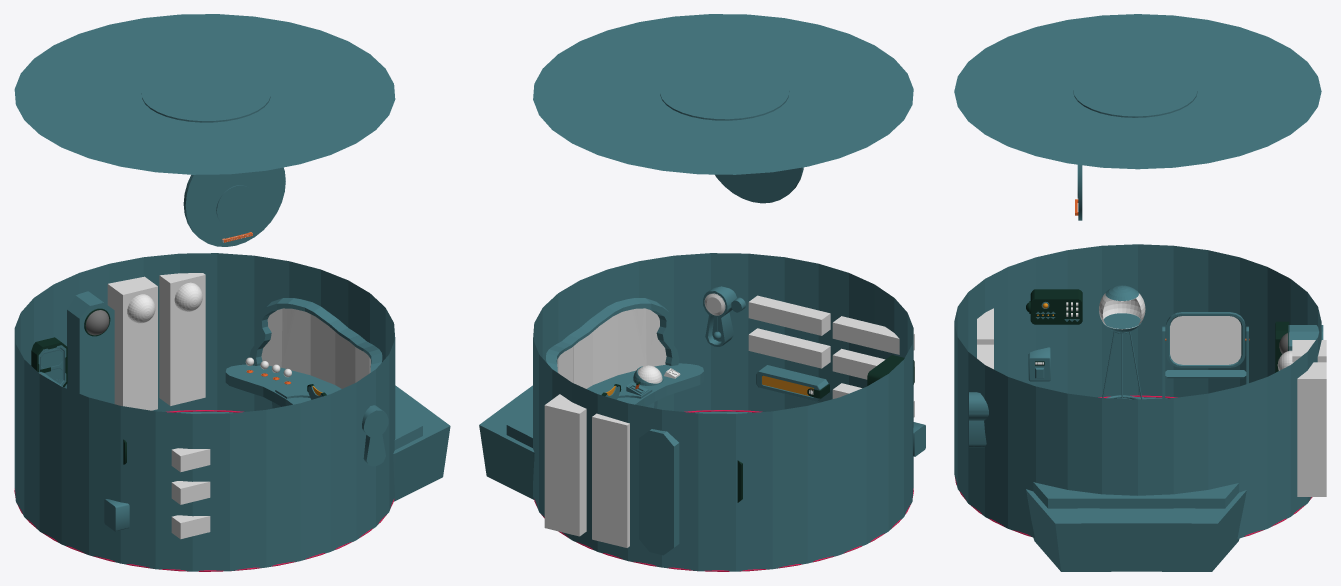
The model's file is uchuusen_texture.fbx.
3 renders of one model, left to right at view 1: azimuth 30°, elevation 25°; view 2: azimuth 150°, elevation 25°; view 3: azimuth 270°, elevation 25°, orthographic. The views are drawn at different scales.
Visible parts, largest first — view 1: 円柱, 円柱.071, 円柱.070, 立方体.002, 円柱.010, 立方体.001, 立方体.085, 立方体.022, 立方体.098, 立方体.007, 円柱.045, 立方体.005 (+10 smaller); view 2: 円柱, 円柱.070, 立方体.002, 円柱.010, 立方体.005, 立方体.001, 立方体.085, 立方体.022, 円柱.045, 円柱.071, 立方体.019, 立方体.018 (+6 smaller); view 3: 円柱, 立方体.085, 円柱.070, 立方体.002, 立方体.022, 立方体.006, 立方体.020, 球.005, 立方体.008, 立方体.046, 球.015, 平面.001 (+4 smaller).
Boxes of the visible parts, x1,y1,x2,y2 form: 円柱: (14,14,395,571); 円柱.071: (183,167,285,246); 円柱.070: (141,66,270,122); 立方体.002: (159,273,205,405); 円柱.010: (261,308,370,388); 立方体.001: (107,276,157,409); 立方体.085: (272,385,450,501); 立方体.022: (225,364,422,449); 立方体.098: (79,302,114,403); 立方体.007: (107,284,157,410); 円柱.045: (249,298,382,372); 立方体.005: (67,291,103,393); 円柱: (533,14,913,571); 円柱.070: (660,64,789,120); 立方体.002: (544,394,586,536); 円柱.010: (557,308,666,388); 立方体.005: (639,429,679,555); 立方体.001: (592,413,629,547); 立方体.085: (479,385,657,499); 立方体.022: (506,363,703,447); 円柱.045: (546,298,679,372); 円柱.071: (715,167,803,203); 立方体.019: (748,328,830,368); 立方体.018: (748,295,830,335); 円柱: (954,14,1321,538); 立方体.085: (1026,489,1246,571); 円柱.070: (1073,64,1197,117); 立方体.002: (1292,362,1326,496); 立方体.022: (1033,482,1238,508); 立方体.006: (1170,316,1241,364); 立方体.020: (1026,289,1082,324); 球.005: (1102,285,1141,332); 立方体.008: (1166,312,1245,367); 立方体.046: (969,392,988,447); 球.015: (1099,293,1145,329); 平面.001: (1165,370,1246,378).
Bounding box in the file's own units: 4779 × 5399 × 4352.
